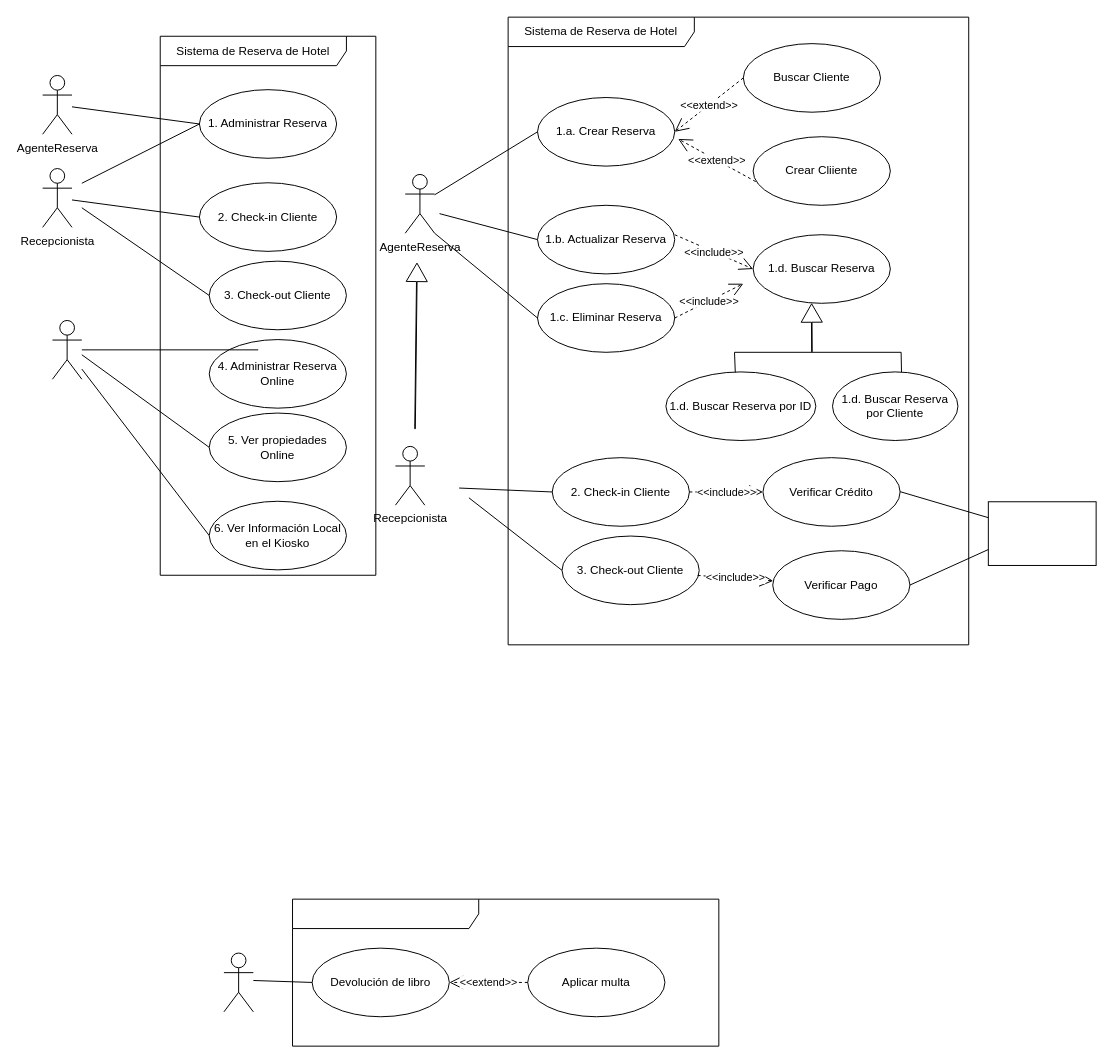
This 1113x1063 diagram has some shape labels left out. Each missing label, with the centre of its shape:
"Bibliotecario" goes at point (238, 982).
"Cliente" goes at point (66, 349).
"Sistema de Biblioteca" goes at point (505, 972).
"«actor» Sistema de Autorización de Tarjeta" goes at point (1041, 533).
